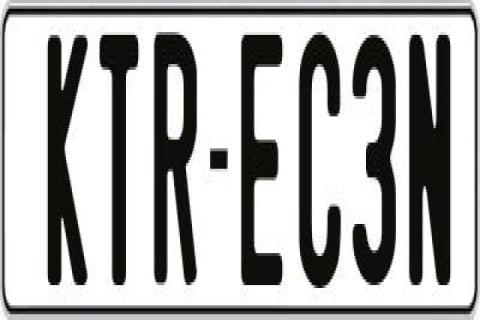0: (350, 35, 400, 303)
C: (297, 29, 341, 294)
E: (238, 27, 280, 286)
K: (47, 32, 94, 288)
N: (406, 32, 448, 291)
R: (154, 24, 200, 294)
T: (99, 29, 137, 285)
